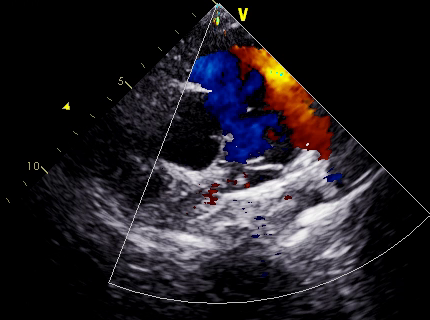PR: (252, 48, 315, 107)
